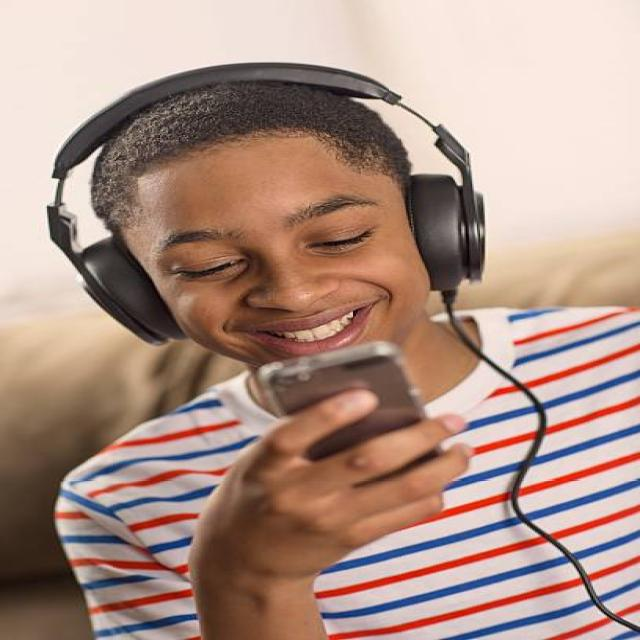Headphone: (43, 59, 488, 348)
